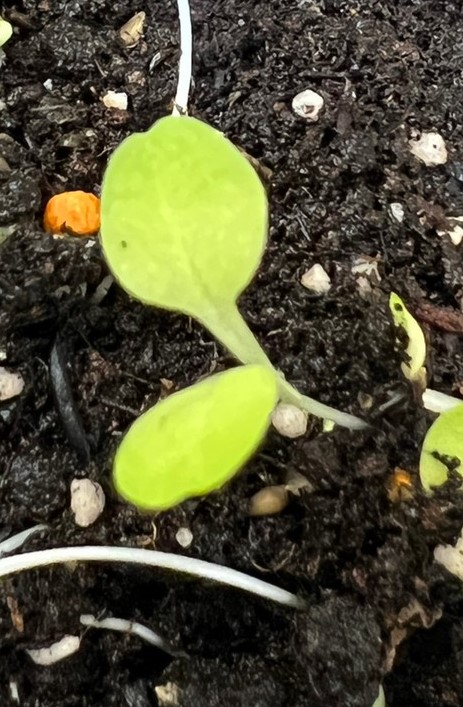week1: (59, 108, 296, 365), (98, 304, 339, 547)
